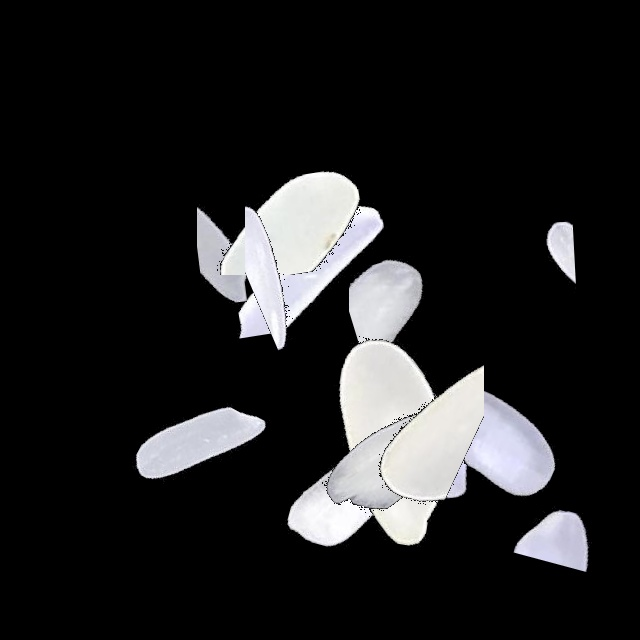Broken: (219, 115, 392, 365), (158, 126, 408, 275), (349, 178, 497, 428), (347, 275, 484, 525), (245, 133, 378, 383), (197, 117, 324, 367), (504, 378, 625, 628), (477, 162, 576, 412), (276, 6, 355, 256)
Full: (73, 322, 323, 572), (218, 369, 468, 619), (297, 314, 547, 564), (269, 316, 519, 566), (267, 339, 517, 589), (375, 317, 625, 567)
